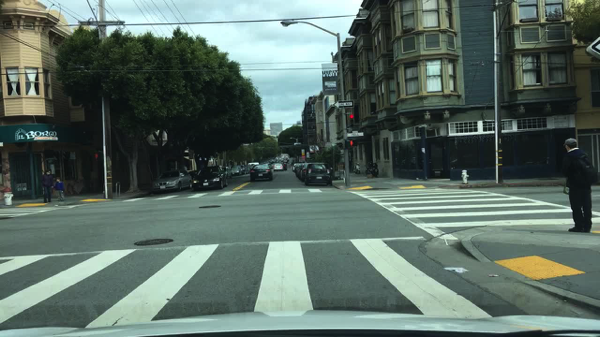car: (191, 166, 229, 192), (153, 168, 192, 192), (304, 162, 332, 187), (250, 162, 274, 182), (299, 164, 322, 181), (230, 165, 242, 177), (221, 165, 231, 178), (186, 170, 199, 180), (273, 163, 284, 172), (296, 163, 302, 178), (280, 162, 287, 171), (293, 162, 298, 173), (245, 164, 250, 174), (241, 165, 246, 175), (268, 163, 272, 170)
motor: (365, 162, 380, 178), (352, 162, 360, 175)
person: (557, 136, 596, 233), (42, 169, 54, 204), (55, 179, 66, 202)
traffic light: (345, 140, 359, 150), (348, 113, 354, 120)
traffic sign: (332, 100, 353, 109)
